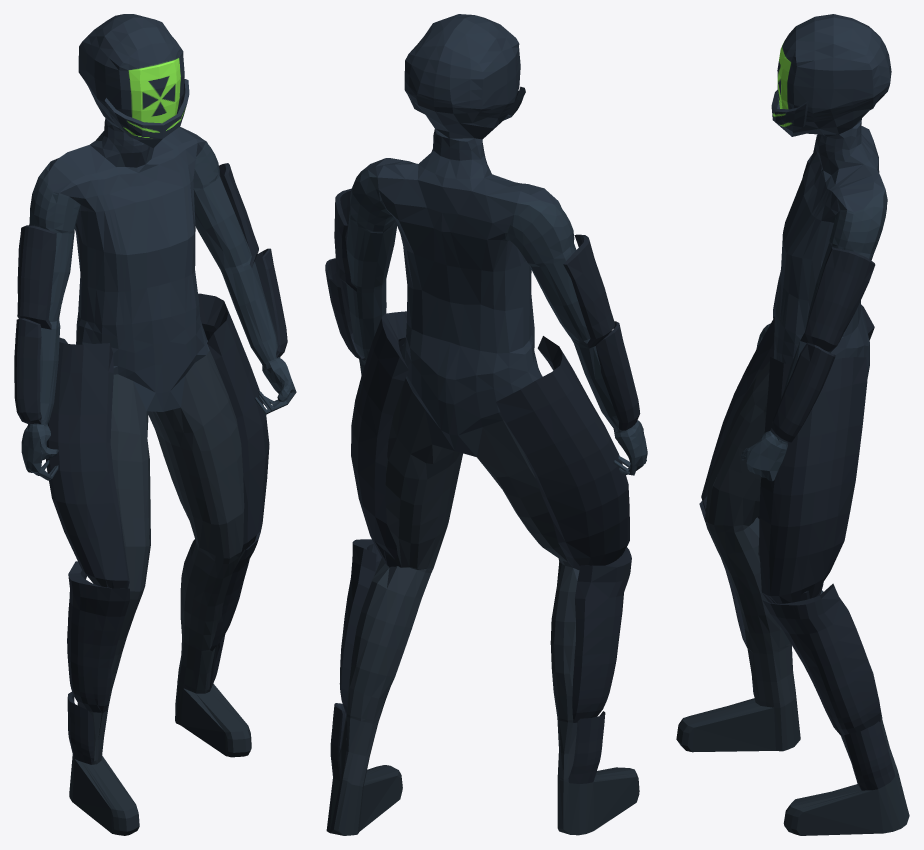
The model's file is Bastion_Stun_Recover_000011.obj.
The picture shows the model from 3 angles, left to right: view 1: azimuth 30°, elevation 25°; view 2: azimuth 150°, elevation 25°; view 3: azimuth 270°, elevation 25°; orthographic projection. The views are drawn at different scales.
Visible parts, largest first — view 1: Cube.002; view 2: Cube.002; view 3: Cube.002.
Part boxes in pixels (x1,y1,x2,y2): Cube.002: [14, 14, 296, 835]; Cube.002: [325, 14, 647, 835]; Cube.002: [676, 14, 909, 835].
Bounding box in the file's own units: 1.44 × 3.8 × 1.05.
